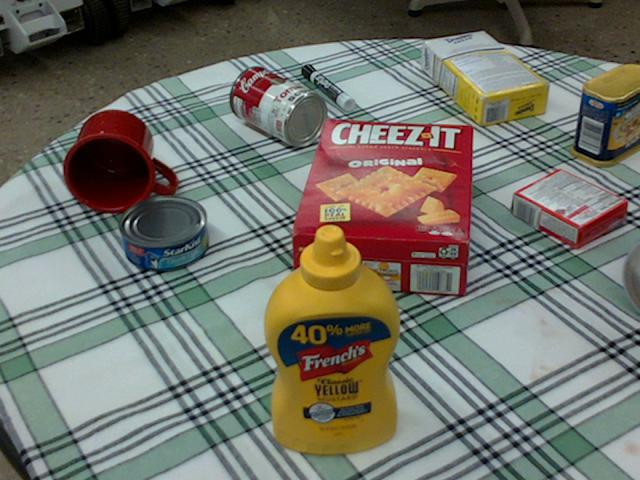cracker_box: (290, 119, 477, 295)
gelatin_box: (511, 168, 624, 246)
large_marker: (300, 63, 353, 109)
master_chef_can: (625, 242, 639, 309)
mug: (63, 109, 175, 212)
mustard_bottle: (264, 223, 401, 453)
potted_meat_can: (568, 64, 639, 166)
sugar_box: (422, 31, 551, 126)
tomato_soup_can: (229, 65, 327, 145)
tuna_fish_can: (116, 195, 207, 270)
